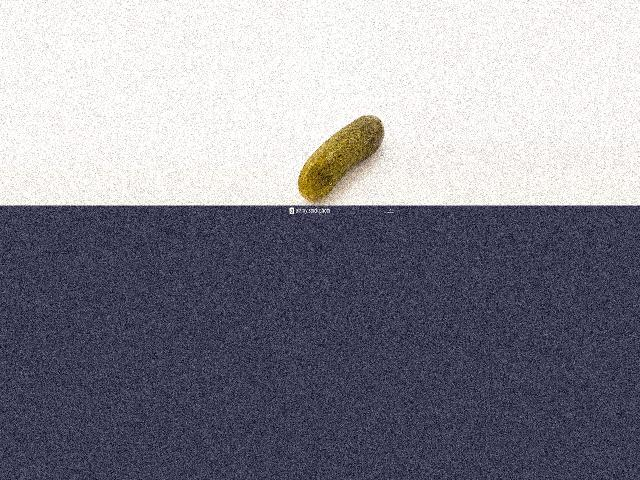cucumber: (298, 116, 384, 201)
